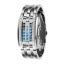watch: (14, 16, 41, 47)
